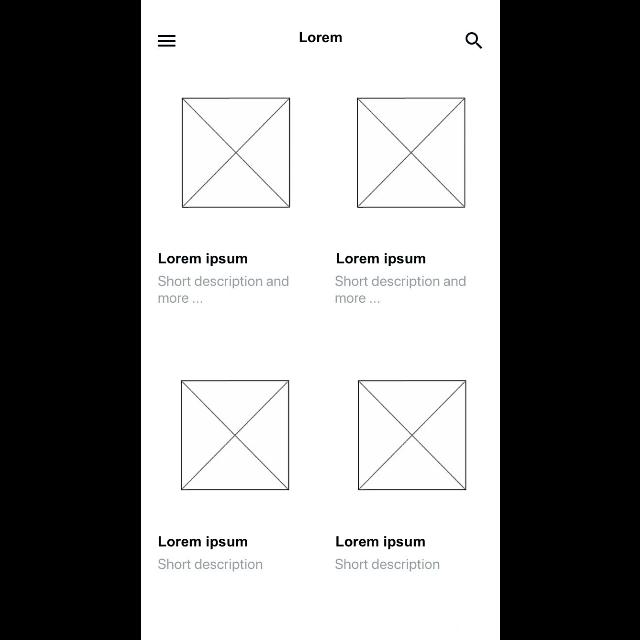icon: (466, 32, 482, 49), (157, 35, 175, 47)
image: (356, 98, 466, 208), (180, 380, 290, 490), (358, 380, 467, 490), (182, 98, 290, 208)
text: (334, 275, 466, 303), (158, 276, 288, 304), (334, 558, 440, 572), (158, 558, 262, 572), (158, 252, 248, 268), (336, 252, 426, 268), (158, 536, 248, 550), (335, 536, 425, 550), (300, 32, 342, 44)
